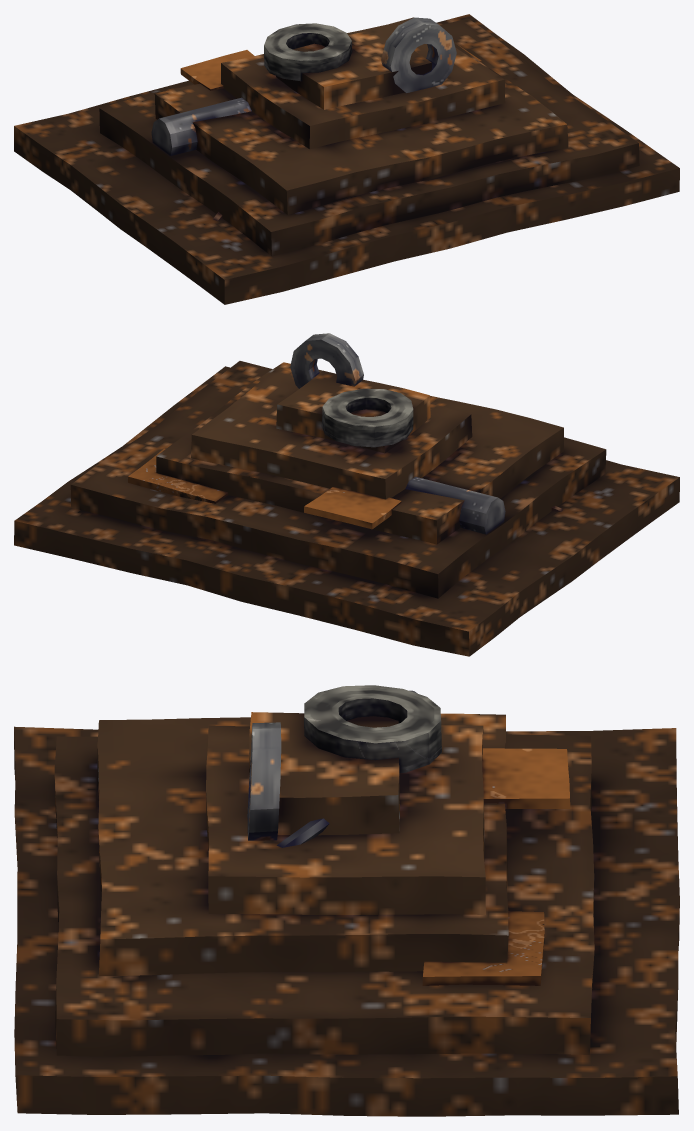
The model's file is JunkMound.glb.
The picture shows the model from 3 angles, top to bottom: view 1: azimuth 30°, elevation 25°; view 2: azimuth 150°, elevation 25°; view 3: azimuth 270°, elevation 25°; orthographic projection. The views are drawn at different scales.
Parts seen in each view (by area): view 1: Heap, Bits, Tyre, Plates; view 2: Heap, Bits, Tyre, Plates; view 3: Heap, Plates, Tyre, Bits.
Part boxes in pixels (x1,y1,x2,y2): Heap: [14, 14, 679, 304]; Bits: [151, 17, 456, 155]; Tyre: [264, 23, 352, 81]; Plates: [180, 44, 481, 221]; Heap: [14, 361, 679, 656]; Bits: [290, 333, 505, 534]; Tyre: [321, 388, 413, 447]; Plates: [128, 448, 563, 529]; Heap: [14, 712, 679, 1116]; Plates: [422, 748, 570, 985]; Tyre: [304, 685, 441, 772]; Bits: [247, 690, 417, 847].
Size of the model in its own units: 6.03 by 2.03 by 4.86.
Materials: 4 (4 with a texture image).
